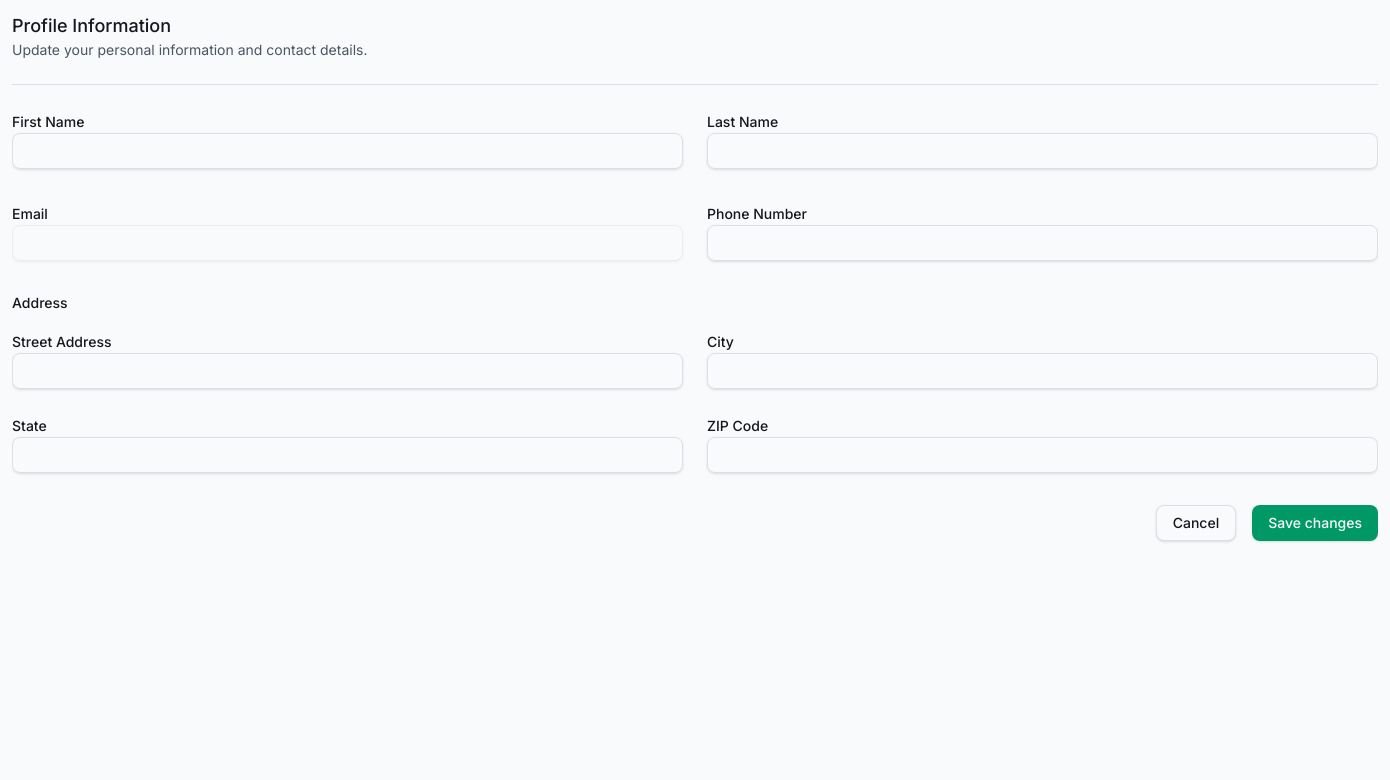
Scenario: DashboardProfile › shows validation error for short last name
In the field labelled "Last Name": (1042, 151) [707, 133, 1378, 169], type "D"
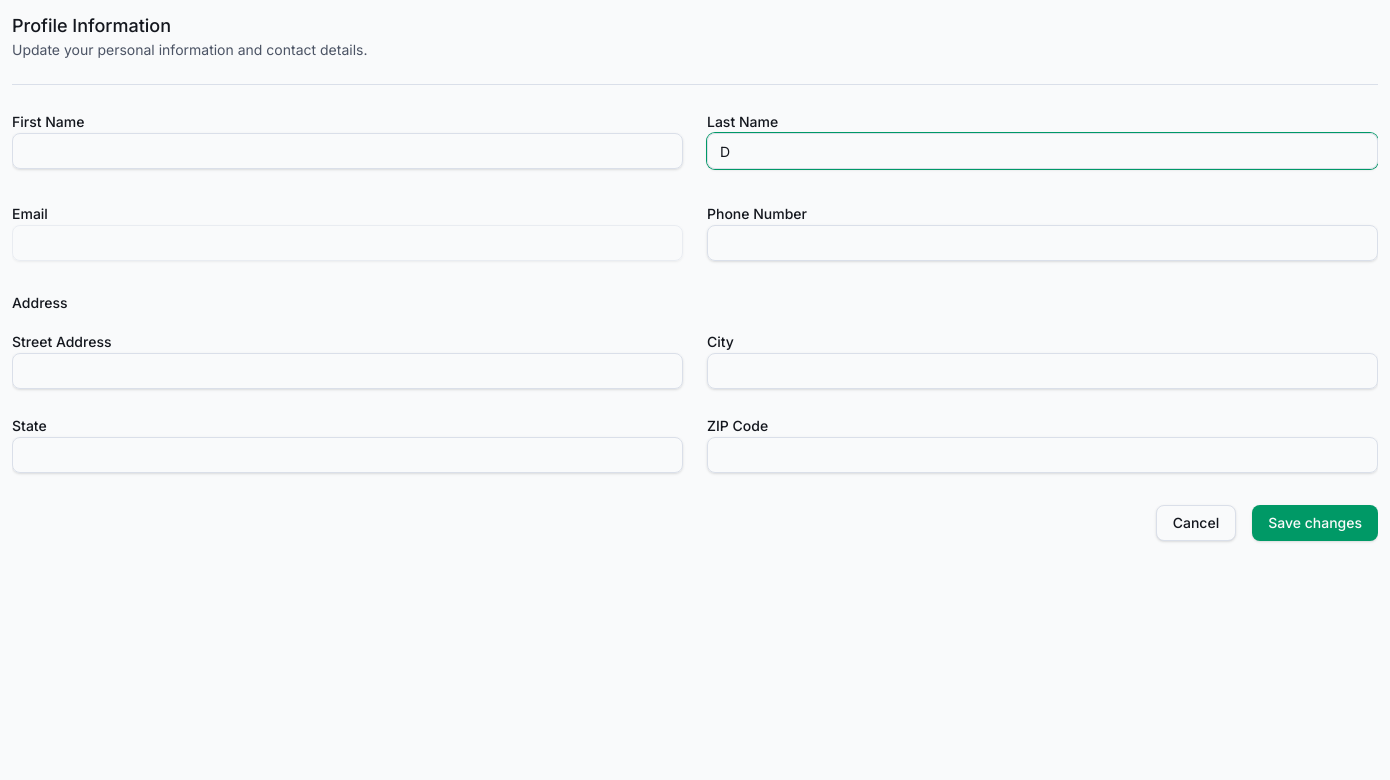
# Submit the form
Click the button "Save changes": click(1315, 523) [1252, 505, 1378, 541]
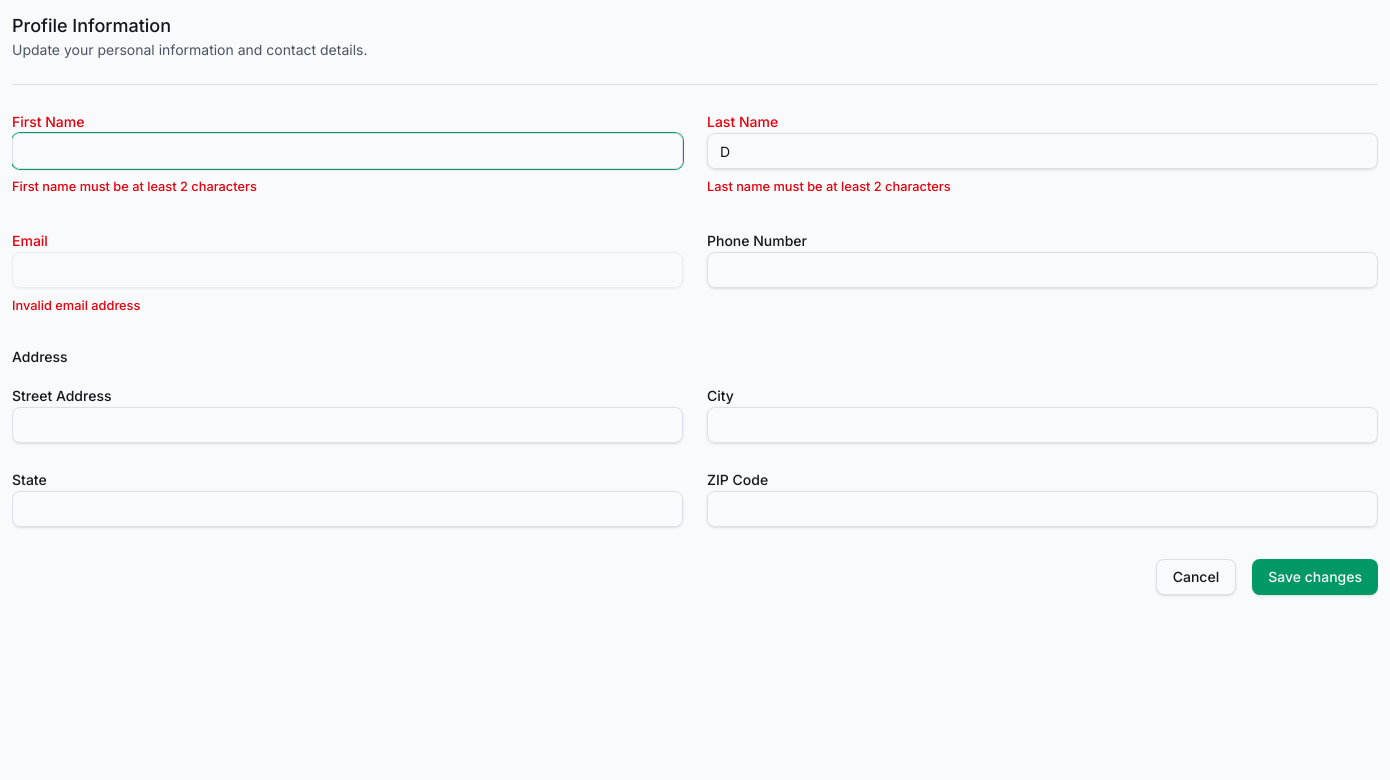
Expected: the text "Last name must be at least 2 characters" is shown, [707, 179, 951, 194]
